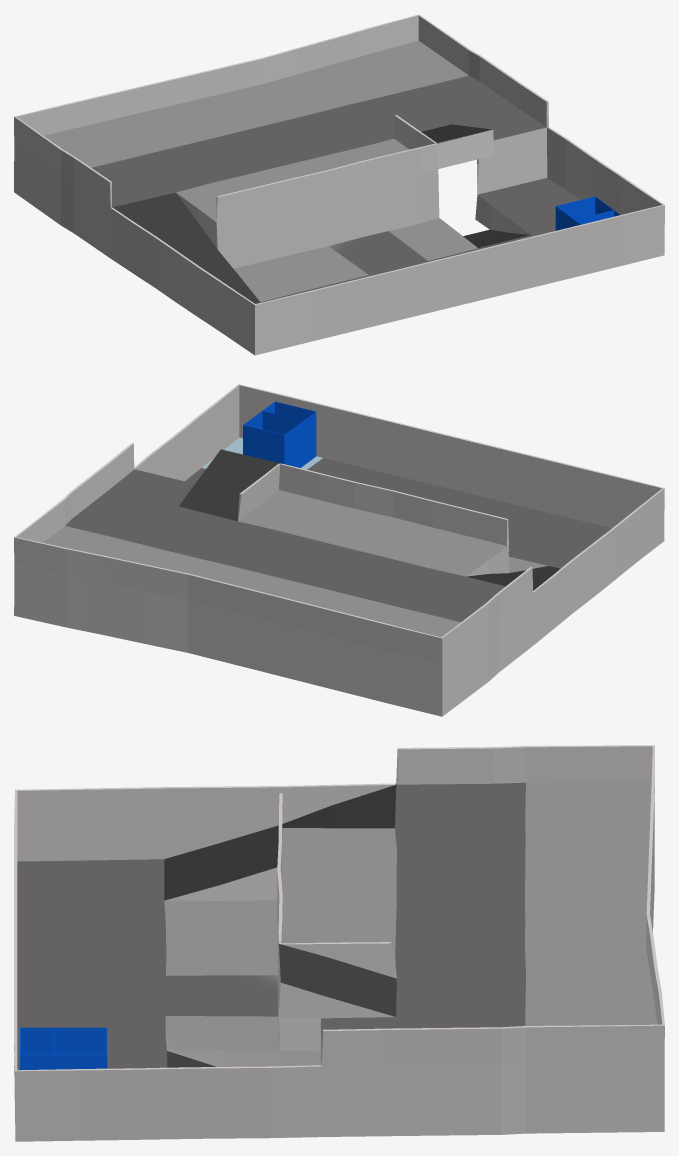
File: planoNodos-2.glb
The picture shows the model from 3 angles, top to bottom: view 1: azimuth 30°, elevation 25°; view 2: azimuth 150°, elevation 25°; view 3: azimuth 270°, elevation 25°; orthographic projection. The views are drawn at different scales.
Parts seen in each view (by area): view 1: NIvel 2 y 3, WC; view 2: NIvel 2 y 3, WC; view 3: NIvel 2 y 3, WC.
Boxes of the visible parts, x1,y1,x2,y2 form: NIvel 2 y 3: (14,14,664,355); WC: (555,196,619,230); NIvel 2 y 3: (14,384,664,716); WC: (243,401,316,467); NIvel 2 y 3: (14,745,664,1141); WC: (20,1027,107,1070).
Bounding box in the file's own units: 30.8 × 6.98 × 29.15.
2 materials, 2 textured.
